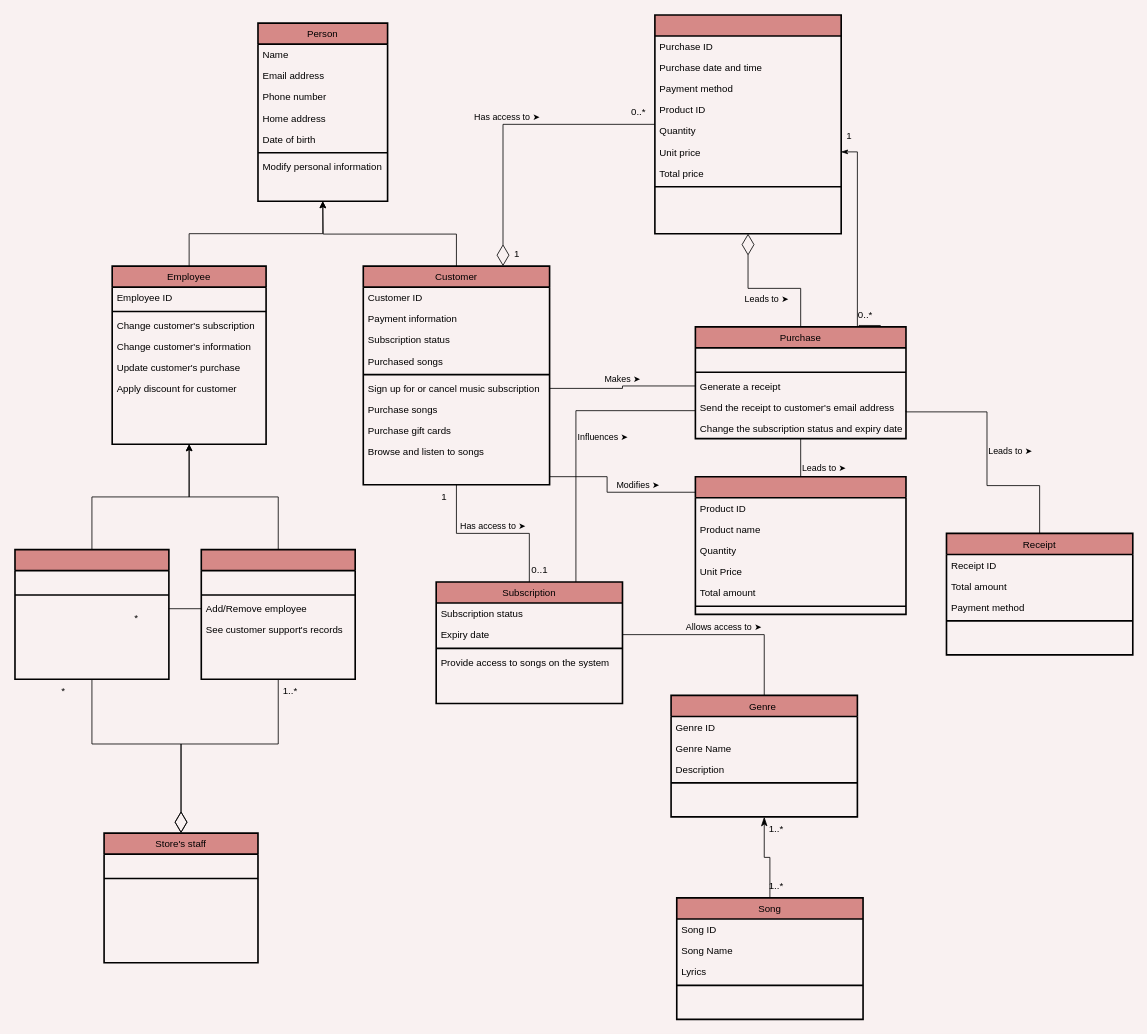
The diagram is 1147 pixels wide and 1034 high, and some of its shapes have lost their labels. The box of each missing label's shape, as (x1, y1, x2, y2) in pixels:
Cart: (694, 475, 906, 615)
Customer support: (14, 548, 169, 680)
Manager: (200, 548, 356, 680)
Purchase history: (654, 14, 842, 234)
